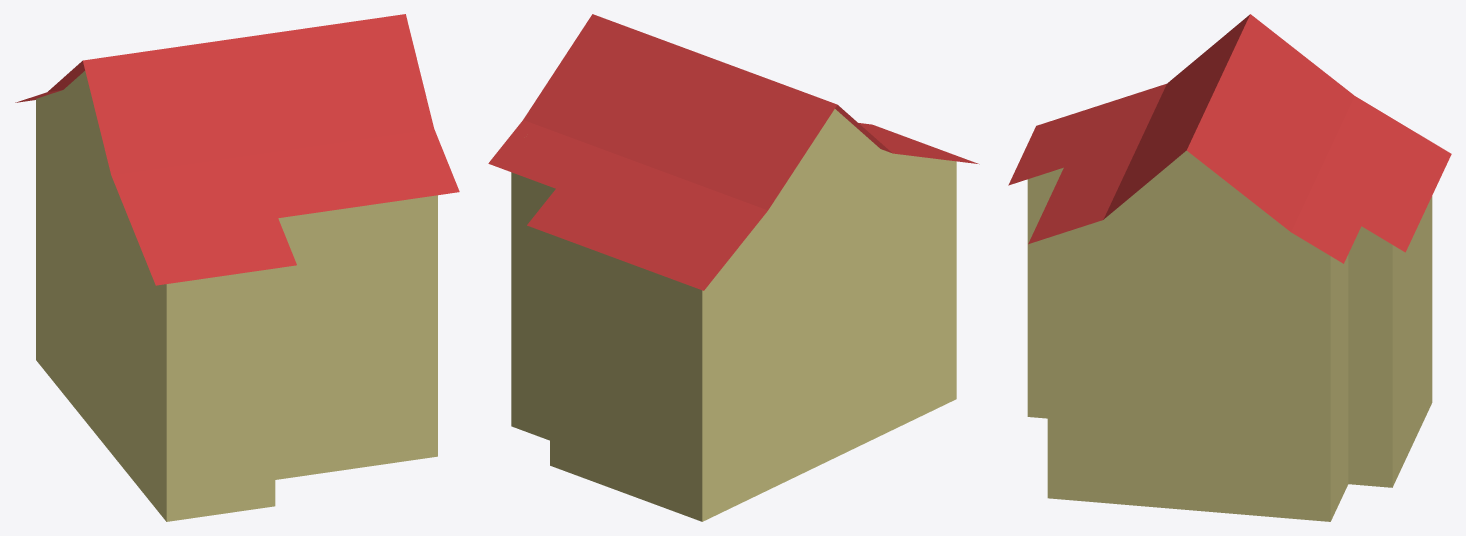
The picture shows the model from 3 angles, left to right: view 1: azimuth 30°, elevation 25°; view 2: azimuth 150°, elevation 25°; view 3: azimuth 270°, elevation 25°; orthographic projection. The views are drawn at different scales.
Bounding box in the file's own units: 11.94 × 13.36 × 12.18.
